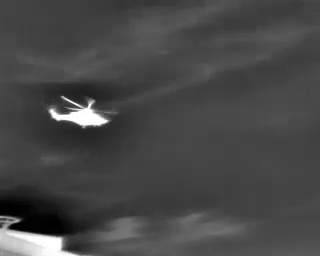HELICOPTER: (45, 91, 122, 137)
